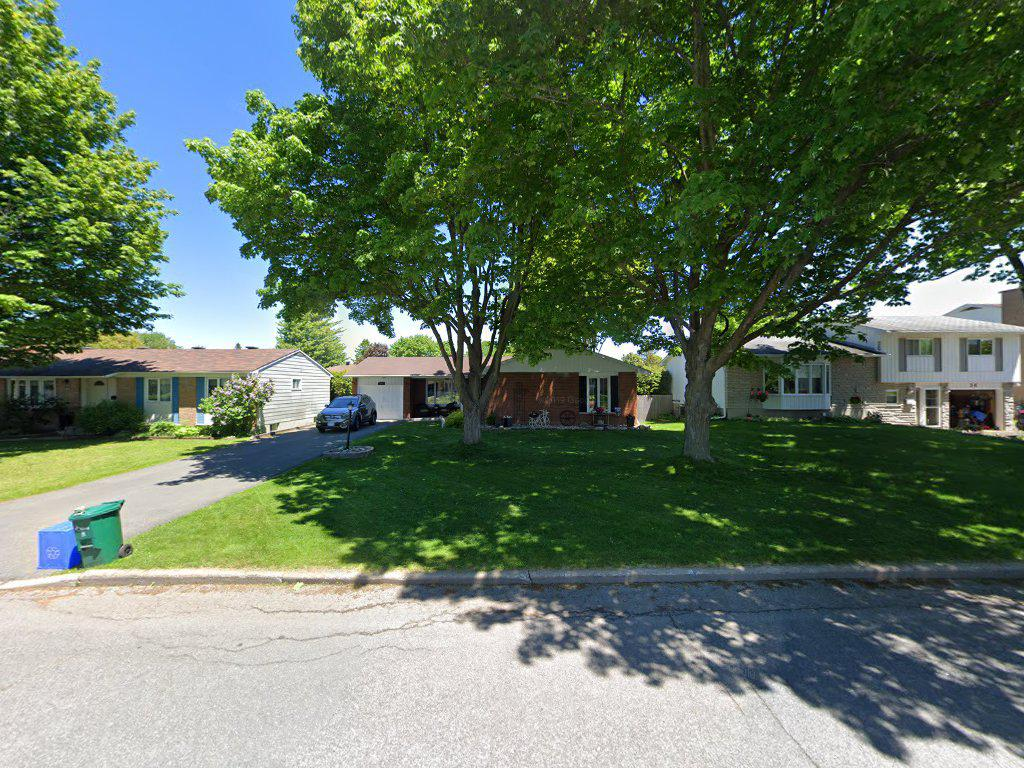trunk: (672, 306, 728, 473), (441, 334, 504, 462)
